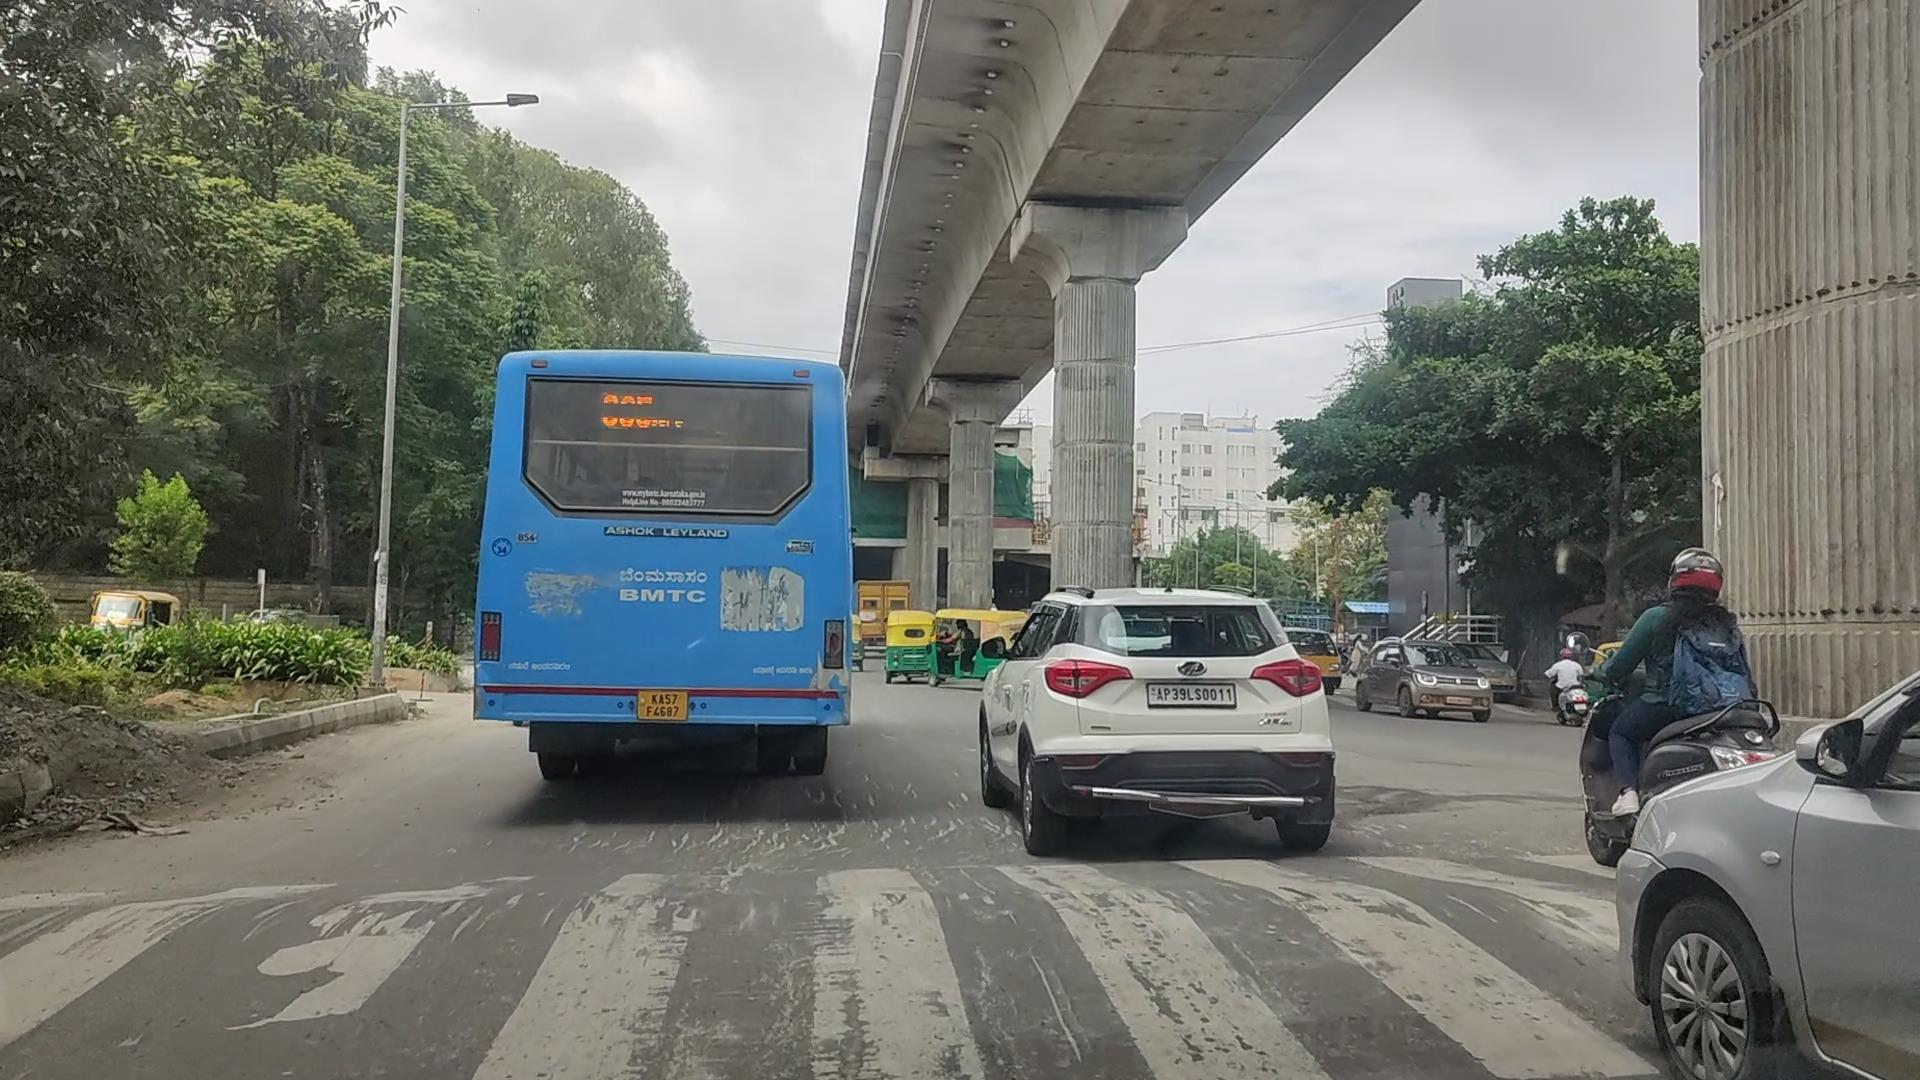LMV: (476, 361, 855, 753), (982, 588, 1342, 833)
SpeedBump: (18, 851, 1563, 1042)
